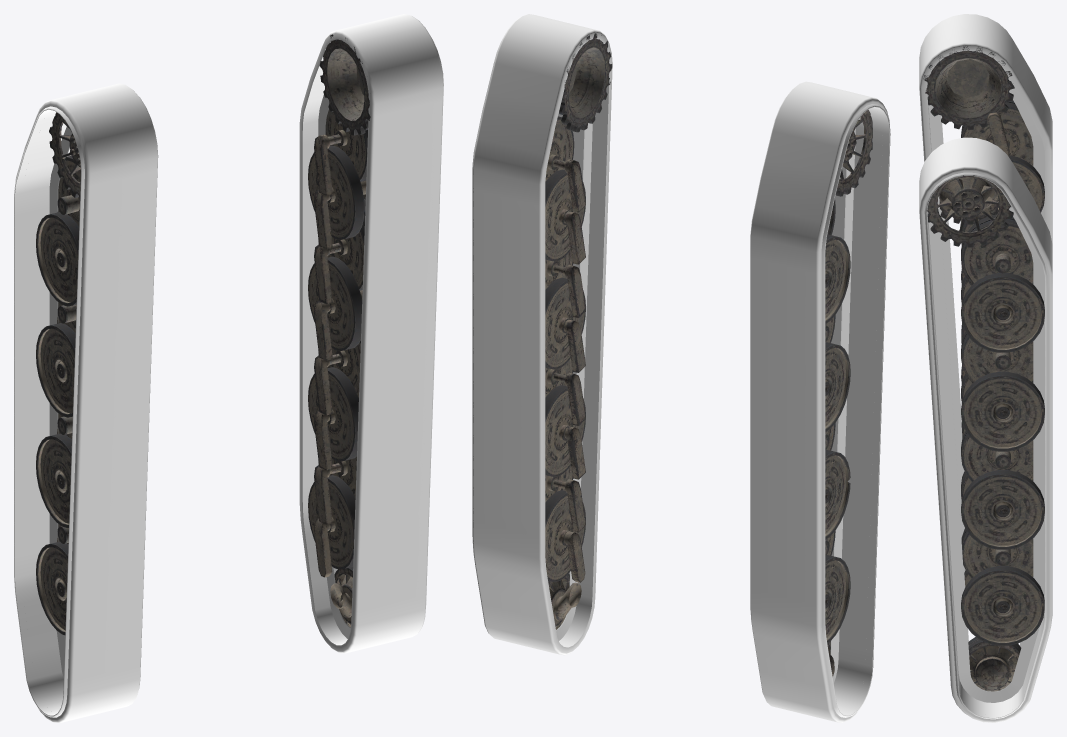
The model's file is Chassis.glb.
3 renders of one model, left to right at view 1: azimuth 30°, elevation 25°; view 2: azimuth 150°, elevation 25°; view 3: azimuth 270°, elevation 25°, orthographic. The views are drawn at different scales.
Parts seen in each view (by area): view 1: set_3_group_0, set_1_group_0, set_5_group_0, set_4_group_0, set_2_group_0, set_0_group_0; view 2: set_3_group_0, set_1_group_0, set_5_group_0, set_4_group_0, set_2_group_0, set_0_group_0; view 3: set_5_group_0, set_1_group_0, set_3_group_0, set_4_group_0, set_0_group_0, set_2_group_0.
Boxes of the visible parts, x1,y1,x2,y2 form: set_3_group_0: (14,83,158,722); set_1_group_0: (299,14,443,653); set_5_group_0: (308,34,370,627); set_4_group_0: (36,112,80,635); set_2_group_0: (76,156,158,316); set_0_group_0: (364,84,443,247); set_3_group_0: (750,81,890,722); set_1_group_0: (472,14,612,655); set_5_group_0: (545,33,612,629); set_4_group_0: (825,109,872,676); set_2_group_0: (832,126,890,279); set_0_group_0: (558,64,612,211); set_5_group_0: (927,176,1044,691); set_1_group_0: (919,137,1052,722); set_3_group_0: (919,14,1052,572); set_4_group_0: (923,46,1044,489); set_0_group_0: (919,196,947,342); set_2_group_0: (919,87,943,210).
Bounding box in the file's own units: 3.55 × 5.86 × 1.27.
Materials: 6 (2 with a texture image).
